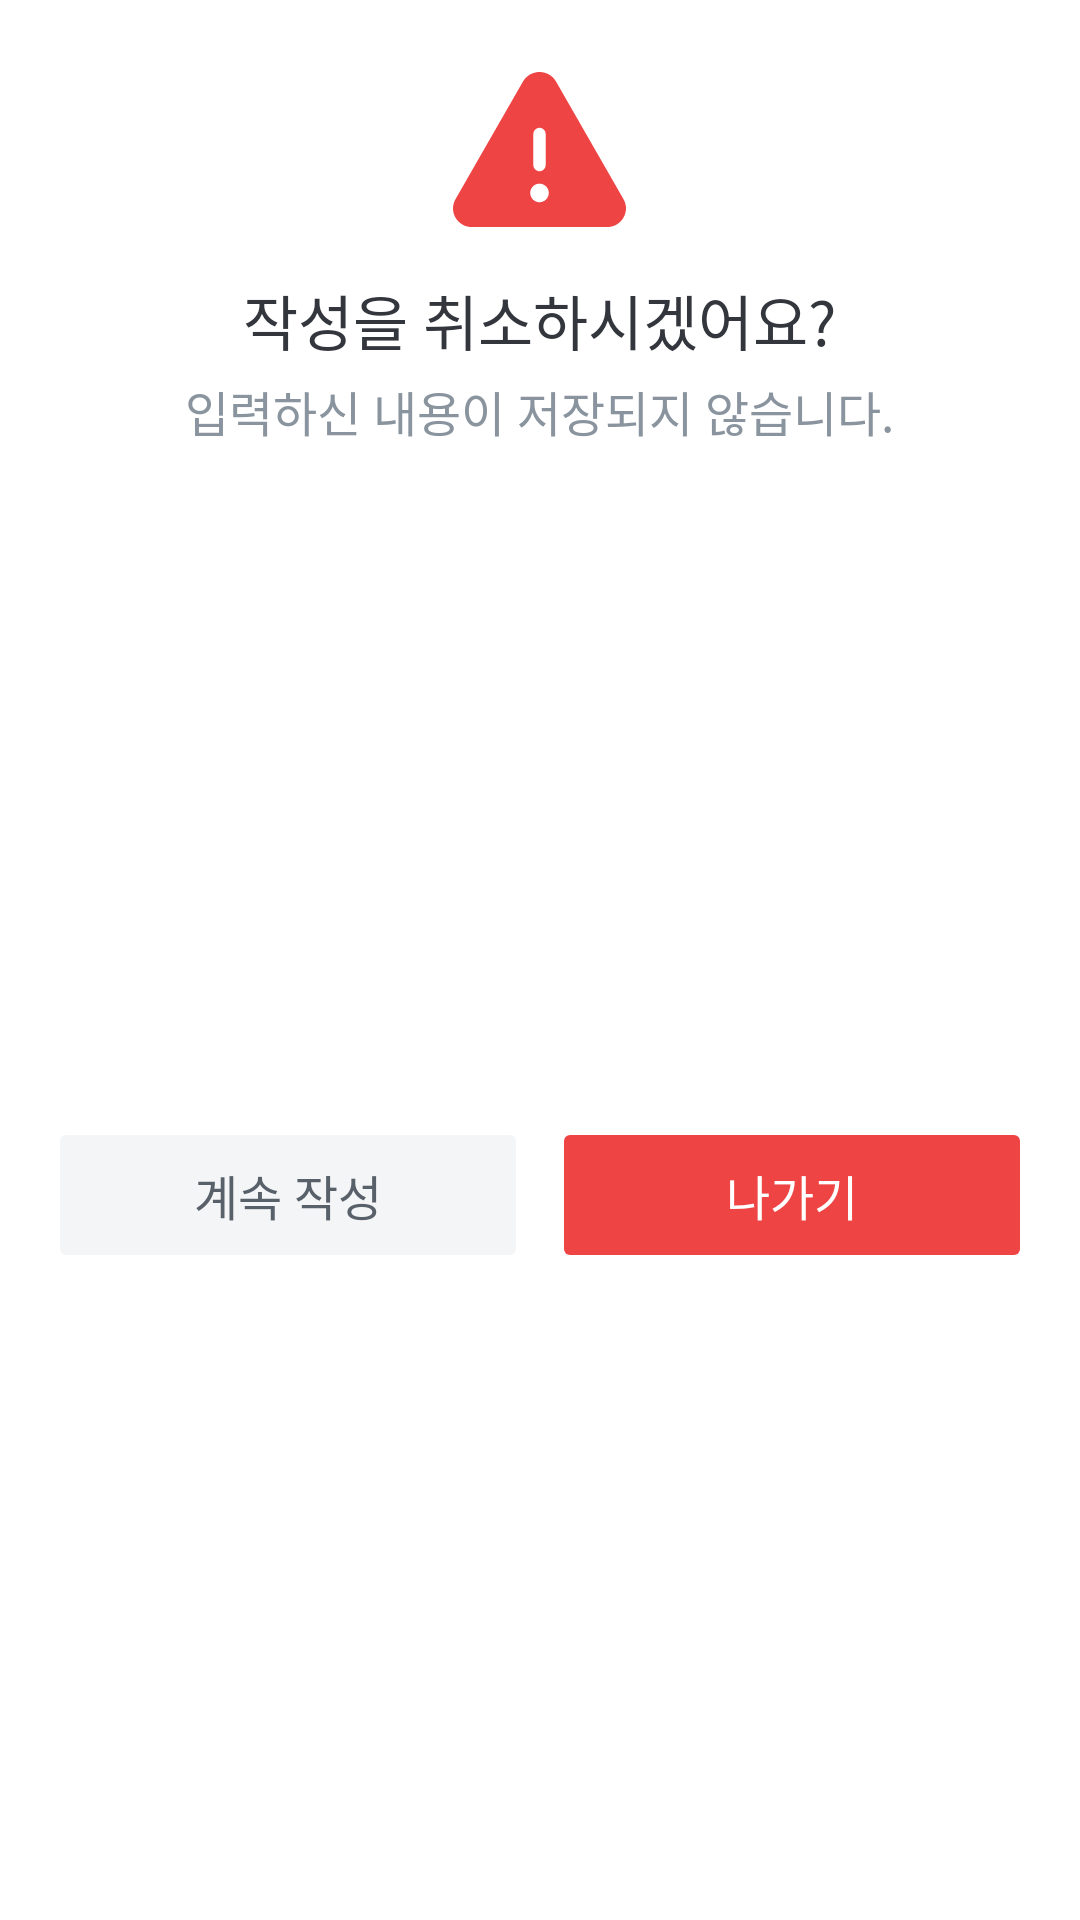

Named icons in this screenshot (1080 x 1920) and their bounding boxes, (x1, y1, x2, y2):
warning triangle: (453, 72, 626, 227)
